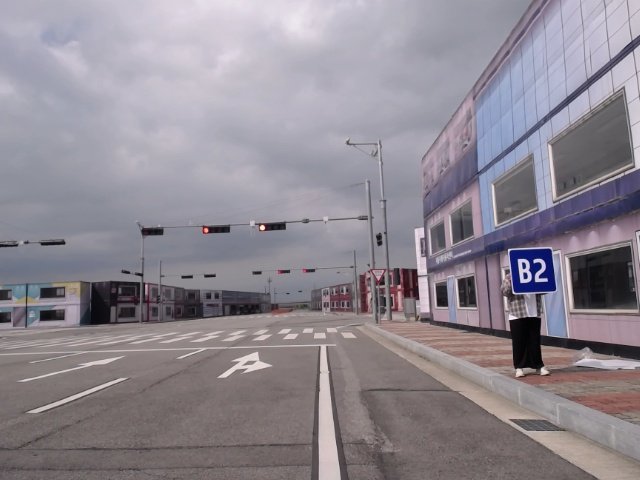delivery_b2: (506, 246, 558, 295)
red_4: (256, 221, 289, 233), (201, 224, 232, 236), (276, 269, 293, 275), (302, 268, 318, 273)
